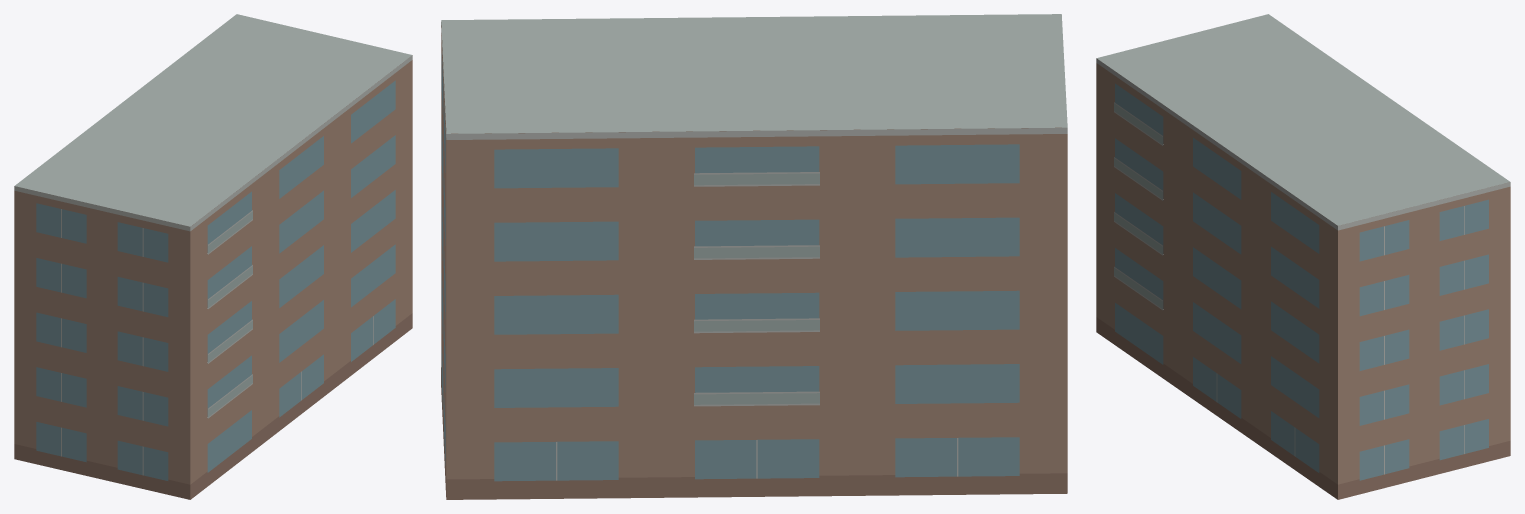
Rendered from survey-upis-33006065.glb.
3 views of the same model, side by side, from view 1: azimuth 30°, elevation 25°; view 2: azimuth 150°, elevation 25°; view 3: azimuth 270°, elevation 25° (orthographic). The views are drawn at different scales.
Visible parts, largest first — view 1: survey-upis-33006065.tmp; view 2: survey-upis-33006065.tmp; view 3: survey-upis-33006065.tmp.
Part boxes in pixels (<box>): survey-upis-33006065.tmp: <box>14,14,412,499</box>; survey-upis-33006065.tmp: <box>441,14,1067,499</box>; survey-upis-33006065.tmp: <box>1096,14,1510,499</box>.
Bounding box in the file's own units: 23.72 × 14.3 × 19.6.
